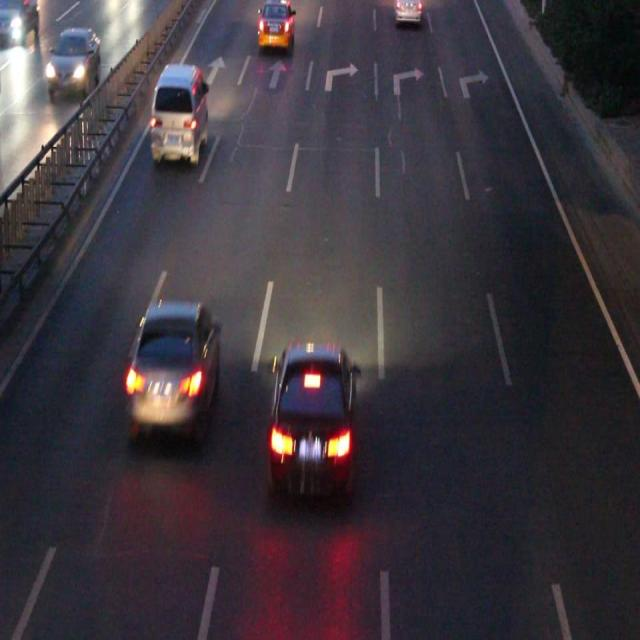car: (274, 340, 354, 491), (130, 304, 219, 432), (258, 2, 294, 48), (393, 1, 421, 22)
truck: (154, 63, 207, 163)
